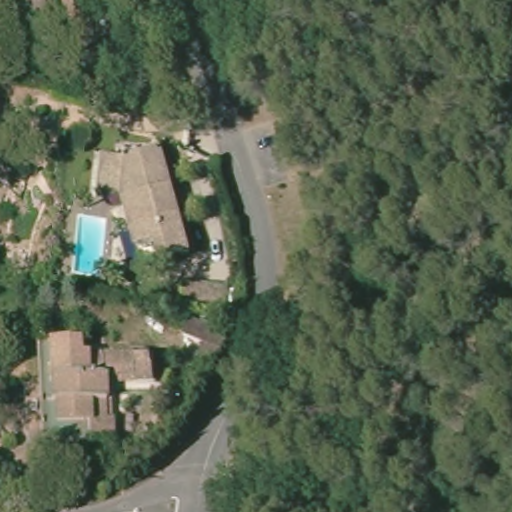pool: (72, 210, 112, 281)
